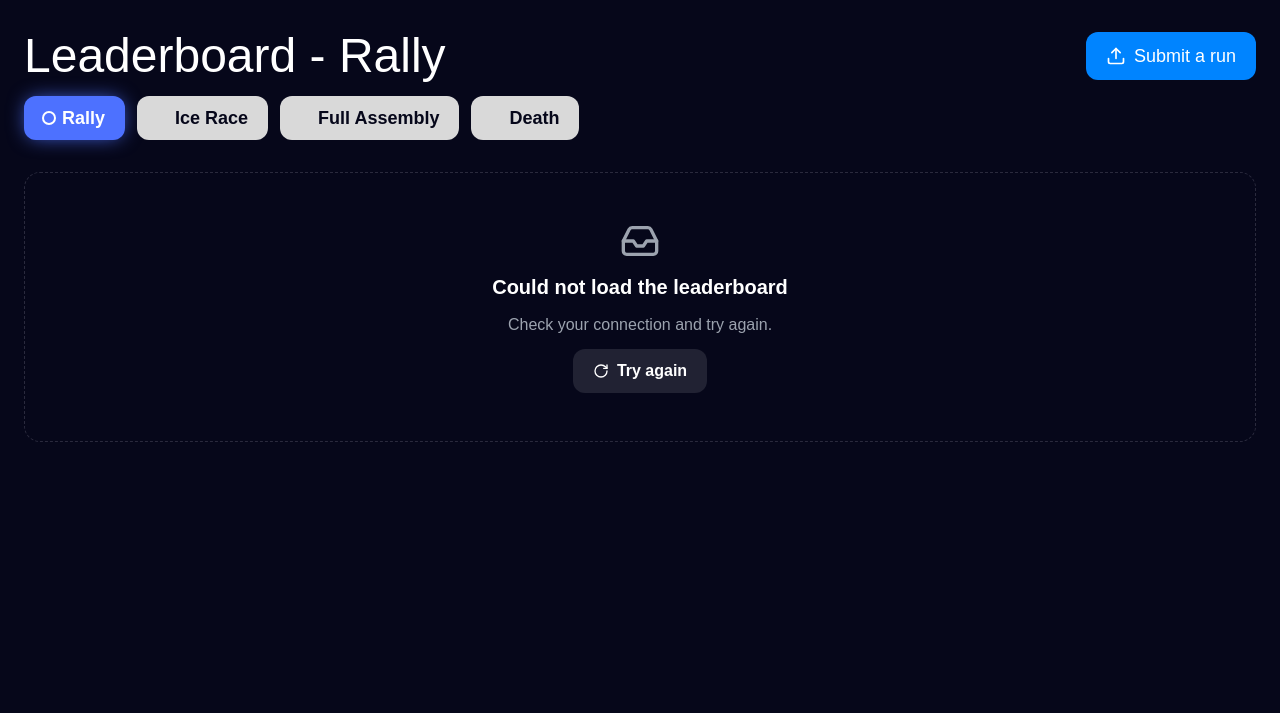
Test: LeaderboardPage › offers a retry when the request fails
The width and height of the screenshot is (1280, 713).
Click the button "Try again" at point(640, 371), box [573,349,707,393]
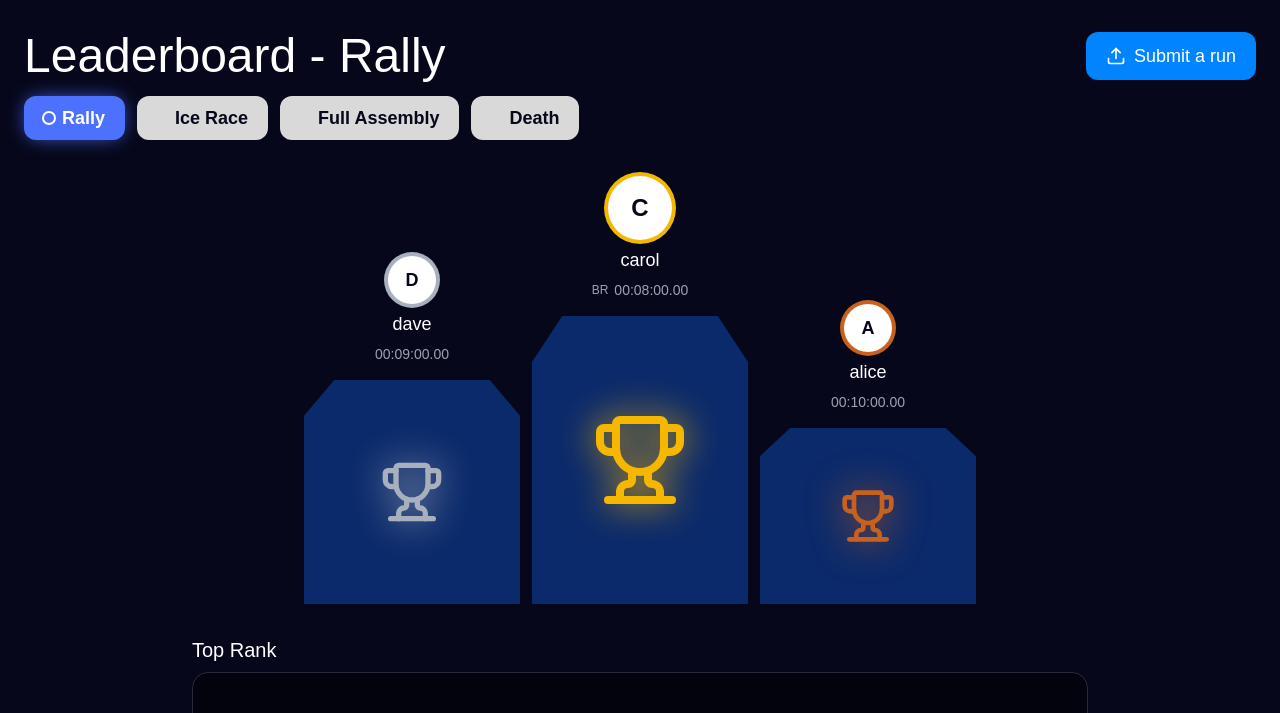
Expected: the list named "Podium" is shown, [304,172,976,604]
